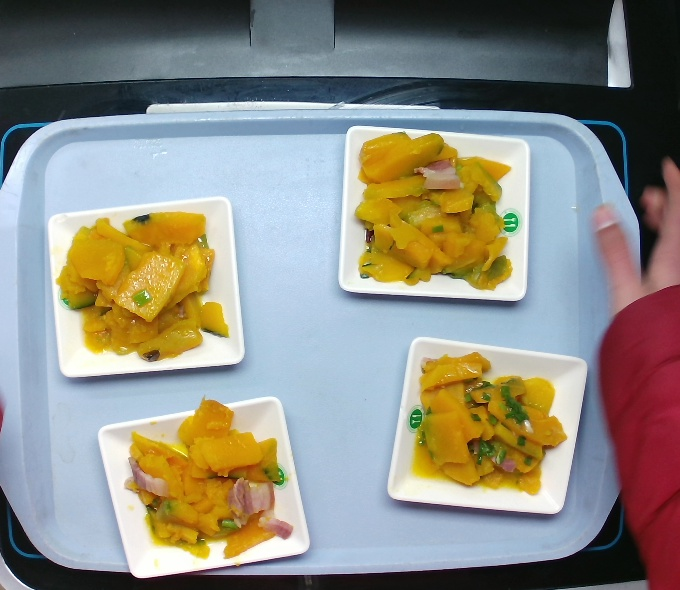wcq-NanGuaChaoLaRou: (52, 206, 235, 363), (122, 397, 298, 559), (348, 132, 517, 298), (397, 350, 576, 494)
